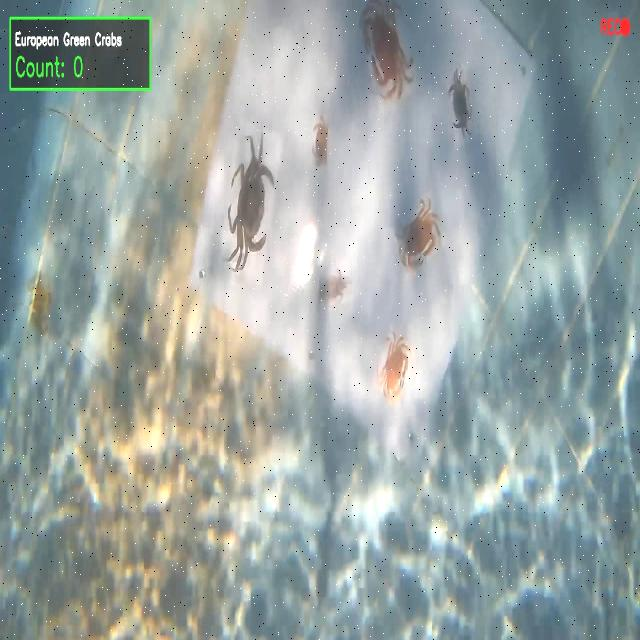European_Green_Crab: (217, 120, 282, 285), (443, 59, 477, 143), (317, 262, 353, 311)
